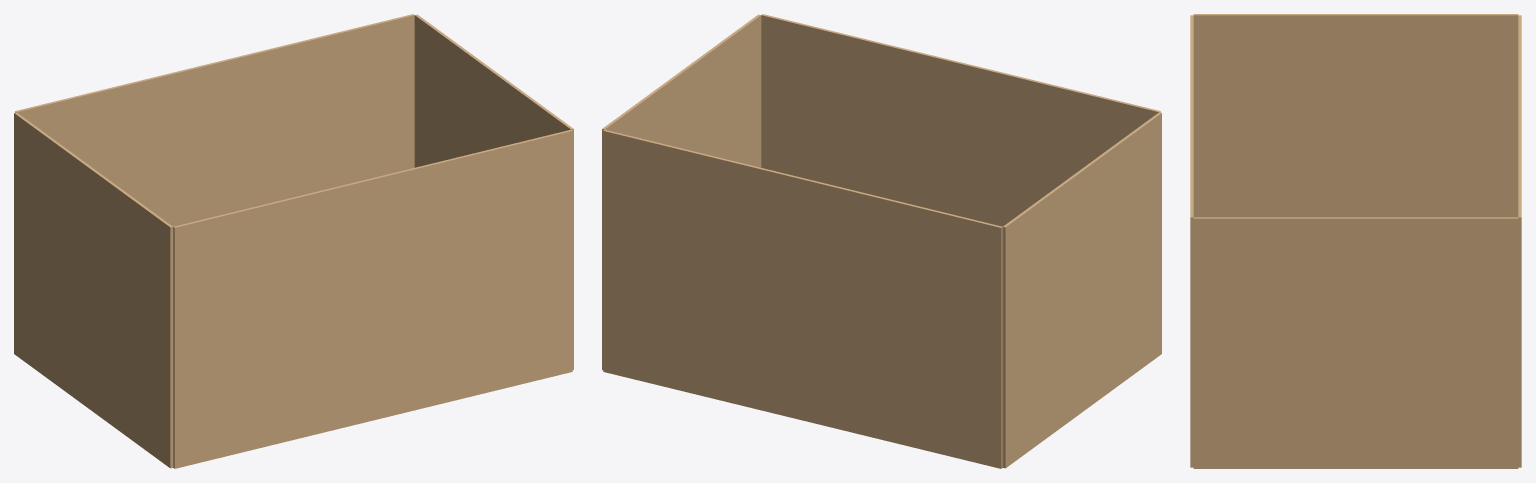
The picture shows the model from 3 angles, left to right: view 1: azimuth 30°, elevation 25°; view 2: azimuth 150°, elevation 25°; view 3: azimuth 270°, elevation 25°; orthographic projection. The views are drawn at different scales.
Parts seen in each view (by area): view 1: form_3; view 2: form_3; view 3: form_3.
Part boxes in pixels (x1,y1,x2,y2): form_3: (14,14,573,468); form_3: (602,14,1161,468); form_3: (1190,14,1521,468).
Bounding box in the file's own units: 7.3 × 4.17 × 5.
